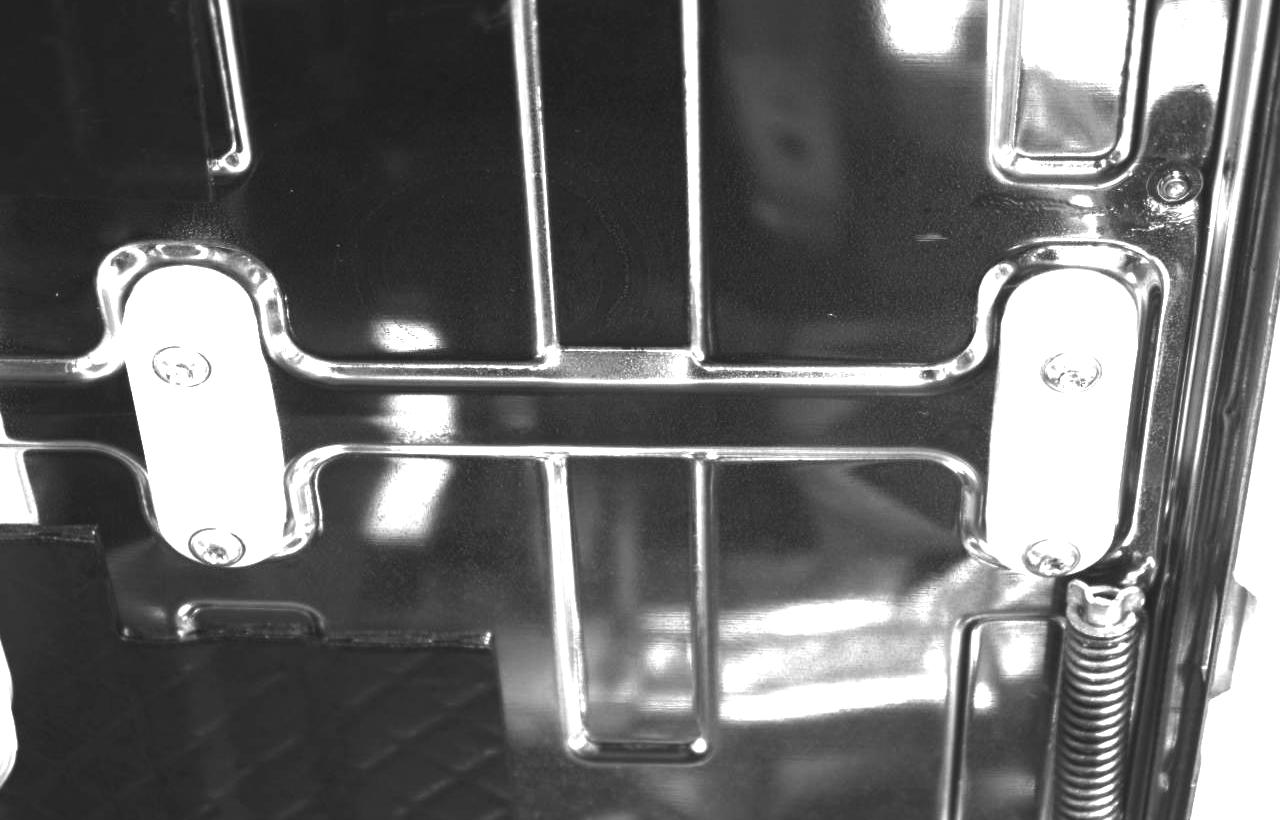vida-ok: (137, 329, 224, 407), (1024, 337, 1112, 410), (185, 514, 266, 578), (1012, 521, 1087, 580)
